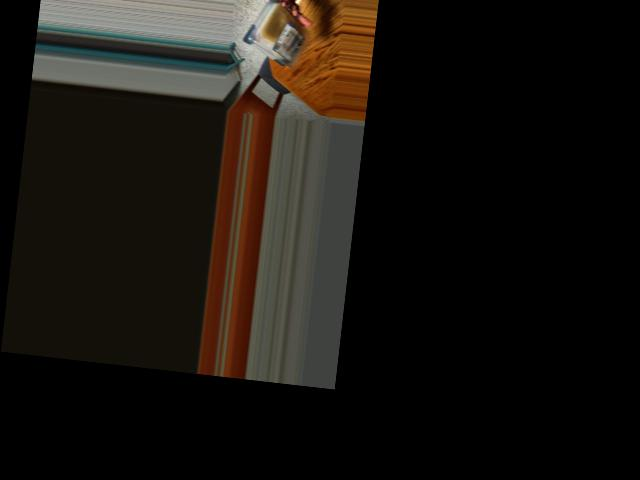cheese: (252, 0, 308, 66)
